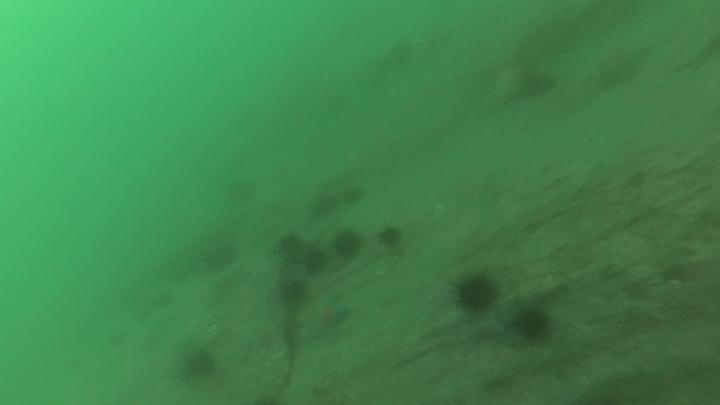echinus: (452, 270, 500, 315), (511, 305, 553, 343), (198, 238, 240, 276), (178, 345, 219, 383), (516, 68, 558, 102), (380, 38, 418, 75), (221, 175, 259, 208), (330, 227, 365, 261), (275, 231, 308, 263), (276, 276, 309, 307), (308, 188, 340, 219), (300, 246, 330, 277), (376, 223, 406, 250), (338, 183, 367, 207)
starfish: (301, 294, 354, 344)
